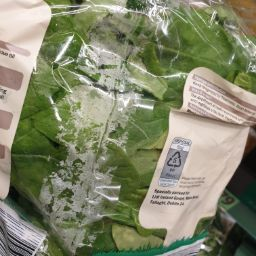Spinach: (54, 10, 146, 229), (29, 119, 132, 199), (118, 20, 237, 62)
